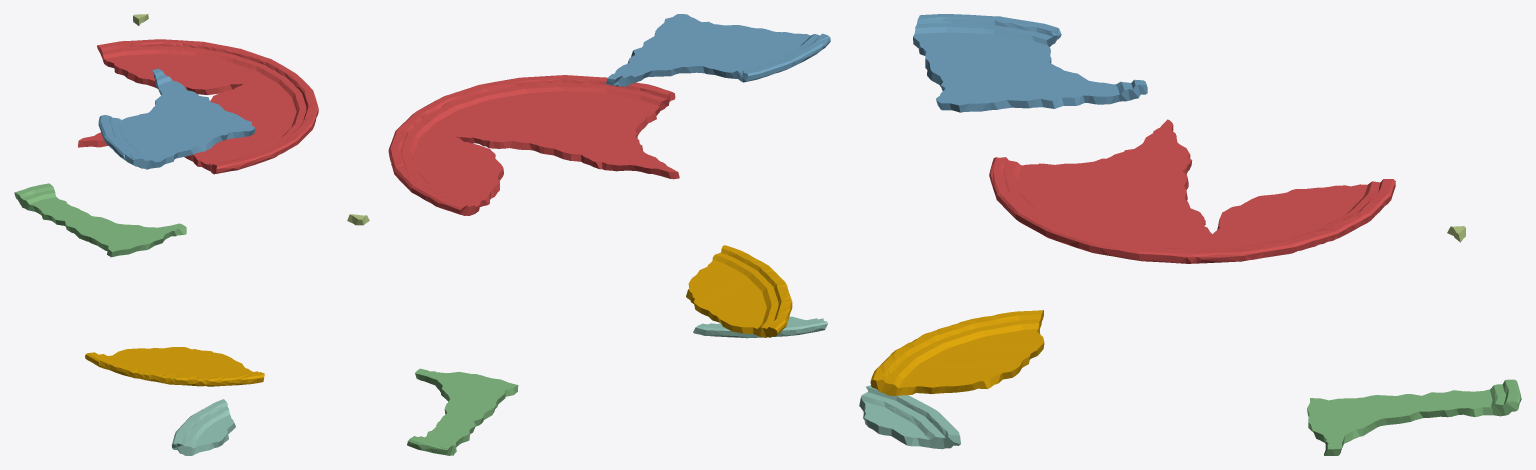
File: fractured_56_6pcs_transformed.glb
3 renders of one model, left to right at view 1: azimuth 30°, elevation 25°; view 2: azimuth 150°, elevation 25°; view 3: azimuth 270°, elevation 25°, orthographic. The views are drawn at different scales.
Visible parts, largest first — view 1: piece_1.obj, piece_2.obj, piece_0.obj, piece_3.obj, piece_4.obj; view 2: piece_1.obj, piece_2.obj, piece_0.obj, piece_3.obj, piece_4.obj; view 3: piece_1.obj, piece_2.obj, piece_0.obj, piece_3.obj, piece_4.obj.
Boxes of the visible parts, left/top/right/bottom form: piece_1.obj: left=78, top=39, right=318, bottom=174; piece_2.obj: left=98, top=68, right=255, bottom=169; piece_0.obj: left=85, top=347, right=264, bottom=386; piece_3.obj: left=14, top=183, right=186, bottom=257; piece_4.obj: left=171, top=399, right=235, bottom=455; piece_1.obj: left=388, top=75, right=679, bottom=215; piece_2.obj: left=606, top=14, right=830, bottom=86; piece_0.obj: left=686, top=245, right=792, bottom=337; piece_3.obj: left=407, top=368, right=518, bottom=455; piece_4.obj: left=693, top=316, right=827, bottom=338; piece_1.obj: left=989, top=119, right=1395, bottom=263; piece_2.obj: left=913, top=14, right=1147, bottom=112; piece_0.obj: left=870, top=310, right=1044, bottom=396; piece_3.obj: left=1307, top=379, right=1521, bottom=455; piece_4.obj: left=859, top=385, right=960, bottom=449.
Bounding box in the file's own units: 0.9865 × 0.9974 × 1.62.
